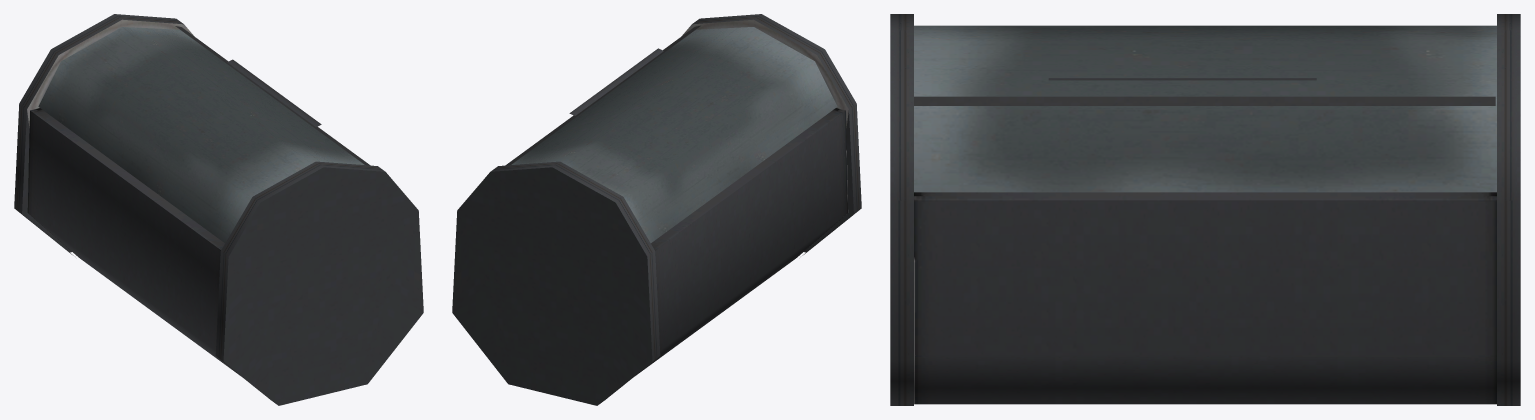
Rendered from nt_2020_fridge_LOD3.obj.
3 views of the same model, side by side, from view 1: azimuth 30°, elevation 25°; view 2: azimuth 150°, elevation 25°; view 3: azimuth 270°, elevation 25° (orthographic). The views are drawn at different scales.
Visible parts, largest first — view 1: mtl_nt_2020_fridge_body, mtl_nt_2020_fridge_glass; view 2: mtl_nt_2020_fridge_body, mtl_nt_2020_fridge_glass; view 3: mtl_nt_2020_fridge_body, mtl_nt_2020_fridge_glass.
Boxes of the visible parts, x1,y1,x2,y2 form: mtl_nt_2020_fridge_body: (14, 14, 423, 405); mtl_nt_2020_fridge_glass: (38, 27, 364, 242); mtl_nt_2020_fridge_body: (452, 14, 861, 405); mtl_nt_2020_fridge_glass: (511, 27, 837, 242); mtl_nt_2020_fridge_body: (890, 14, 1520, 405); mtl_nt_2020_fridge_glass: (914, 25, 1496, 192).
Bounding box in the file's own units: 112 × 122 × 203.
